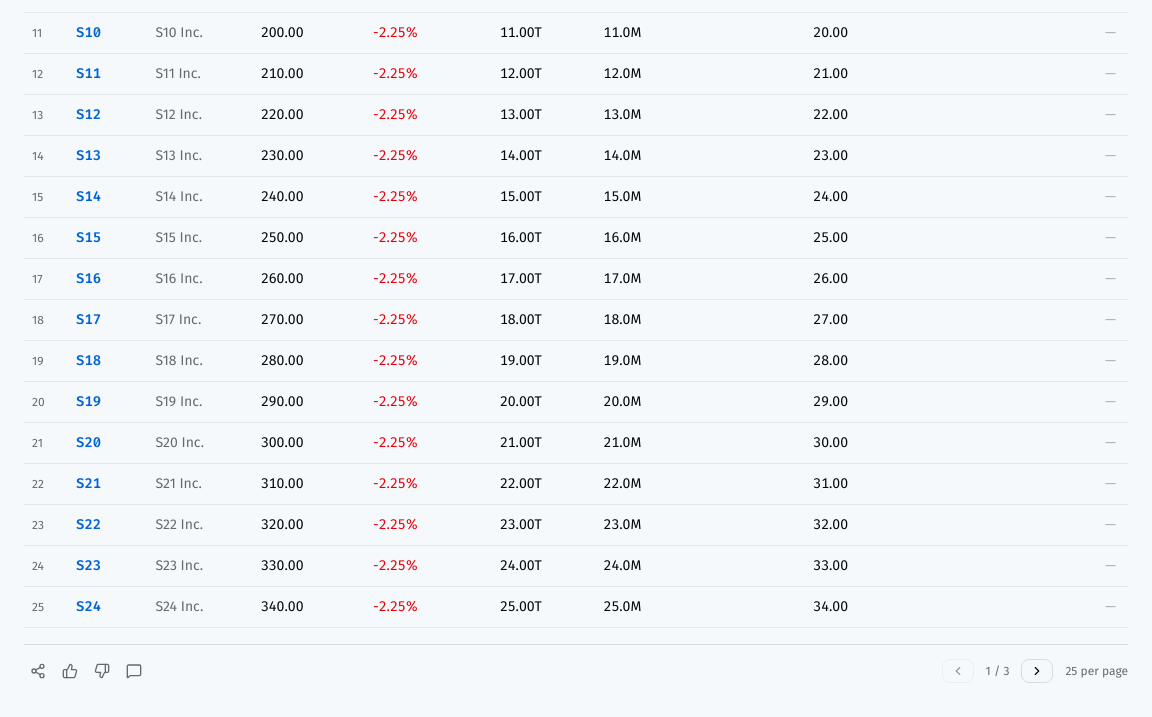
Test: paging at 25 per screen › caps a screen at 25 rows and pages the rest
(page scrolled)
Expected: the text with test id "page-indicator" reads "1 / 3", [986, 664, 1009, 678]
Step 1. Click the button named "Next page" → (1037, 671), box [1021, 659, 1053, 683]
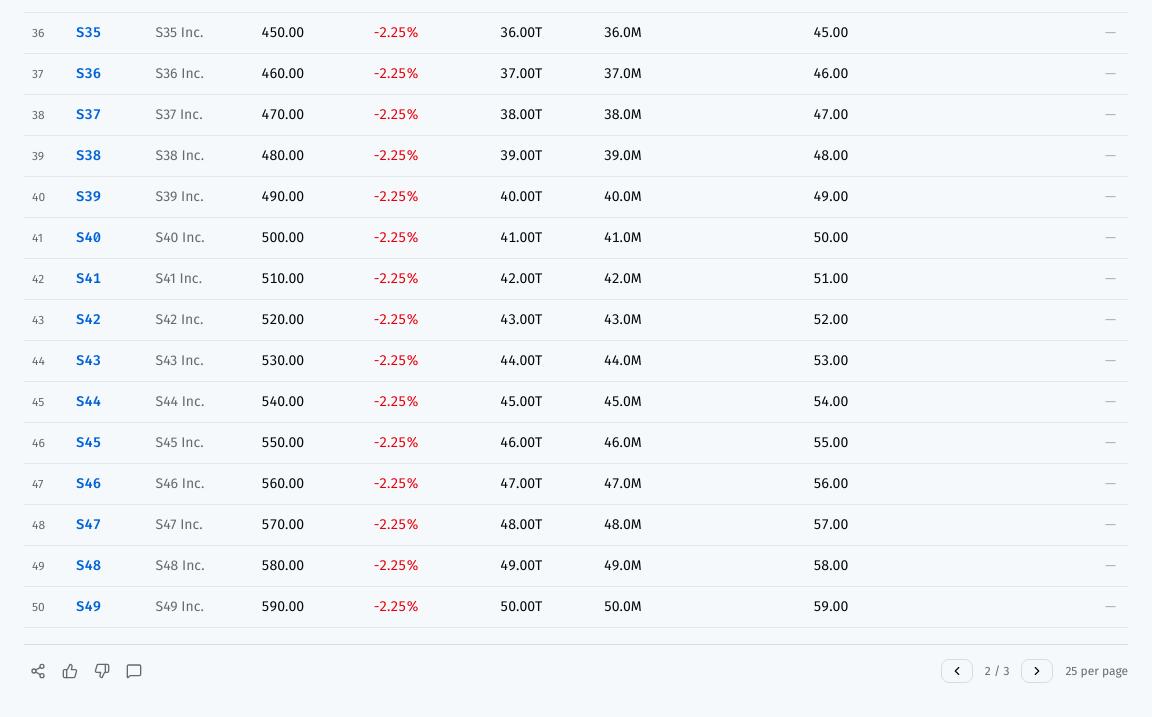
Result: the text with test id "page-indicator" reads "2 / 3" at [985, 664, 1009, 678]
Step 2. Click the button named "Next page" → (1037, 671), box [1021, 659, 1053, 683]
(page scrolled)
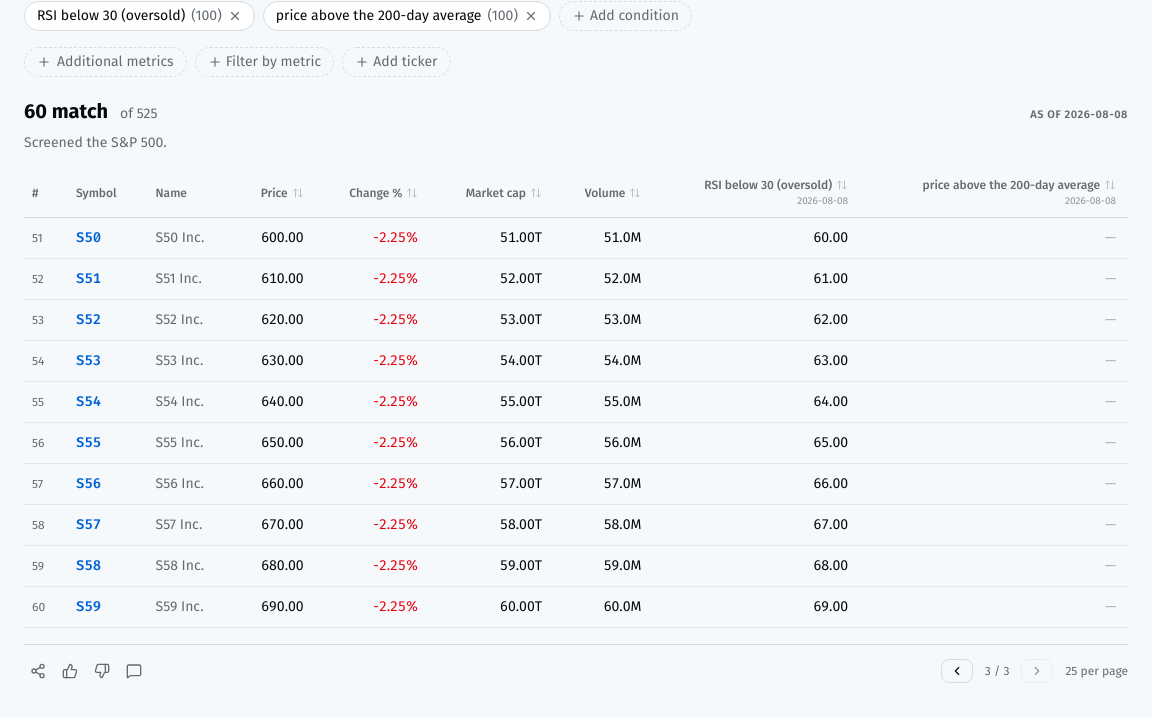
Result: the text with test id "page-indicator" reads "3 / 3" at [985, 664, 1009, 678]
Result: the number of rows with test id "result-row" is 10
